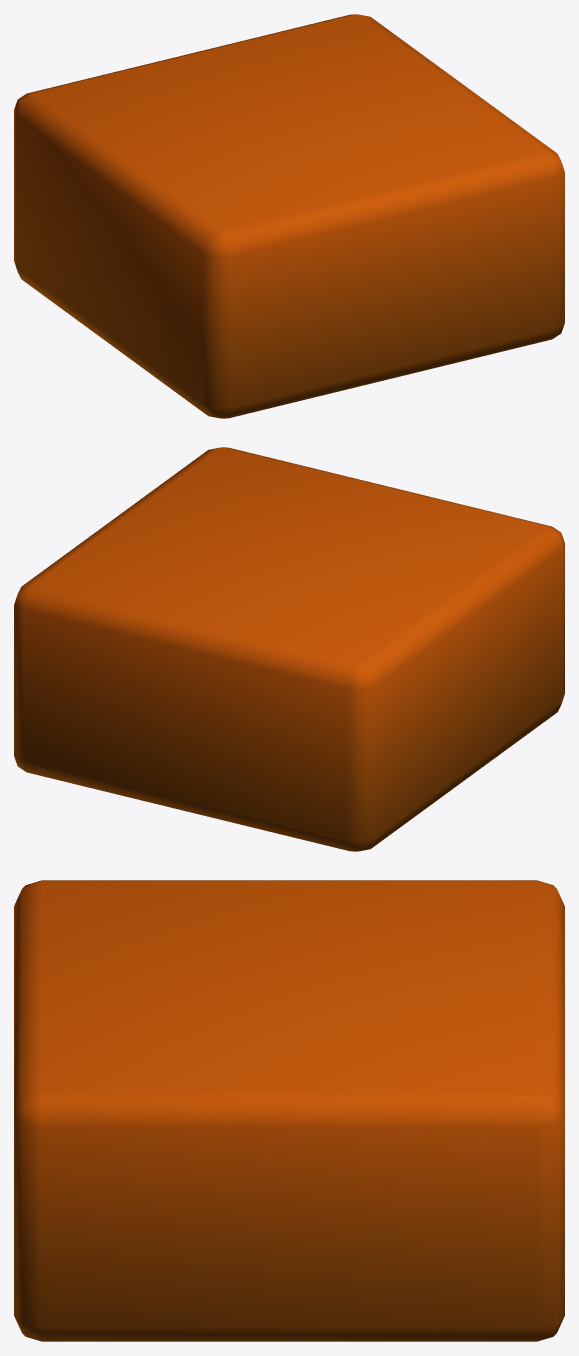
Rendered from 3D_Tile_Ground_04A.glb.
3 views of the same model, one above another, from view 1: azimuth 30°, elevation 25°; view 2: azimuth 150°, elevation 25°; view 3: azimuth 270°, elevation 25° (orthographic). The views are drawn at different scales.
Parts seen in each view (by area): view 1: 3D_Tile_Ground_04A; view 2: 3D_Tile_Ground_04A; view 3: 3D_Tile_Ground_04A.
Boxes of the visible parts, box(x1,y1,x2,y2) form: 3D_Tile_Ground_04A: box(14, 14, 564, 418); 3D_Tile_Ground_04A: box(14, 447, 564, 851); 3D_Tile_Ground_04A: box(14, 880, 564, 1341).
Bounding box in the file's own units: 2 × 1 × 2.
Materials: 1 (1 with a texture image).
